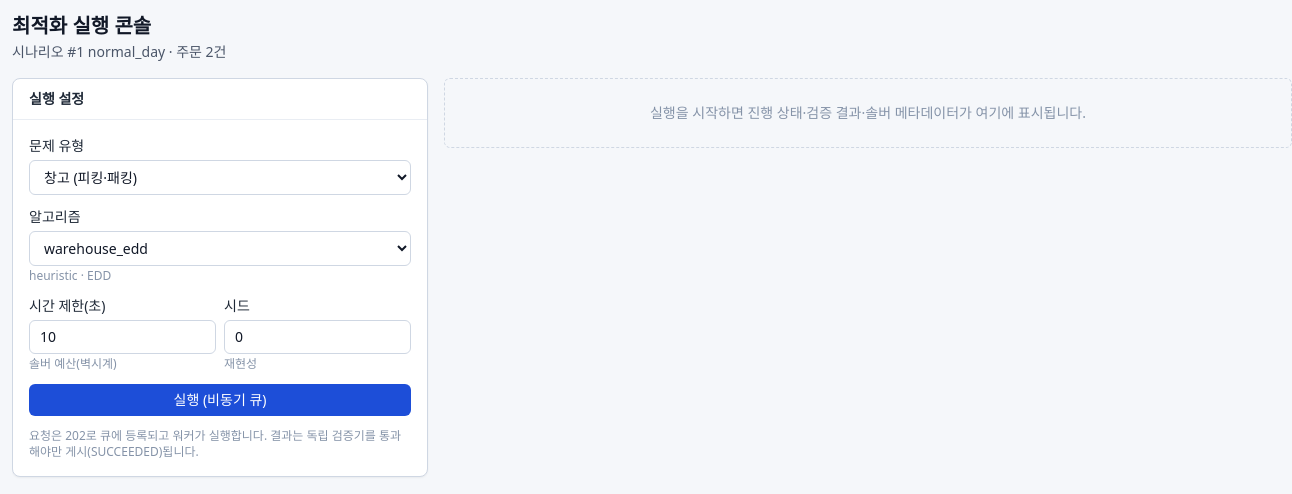
Test case: Optimize console marks unimplemented problem types as not available
The image size is (1292, 494).
expect the button "실행 (비동기 큐)" is shown: met, box [29,384,411,416]
Select "배송 경로 (VRPTW)" in the dropdown labelled "문제 유형": coordinates (220, 178) [29,160,411,195]
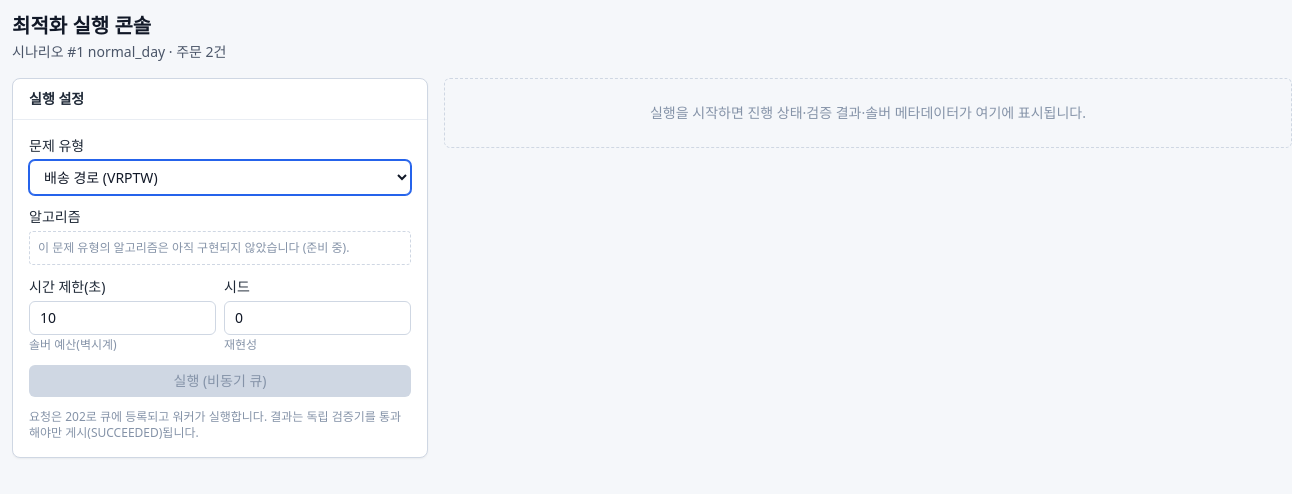
expect the text "이 문제 유형의 알고리즘은 아직 구현되지 않았습니다 (준비 중)." is shown: met, box [29,231,411,265]
expect the button "실행 (비동기 큐)" is disabled: met, box [29,365,411,397]
